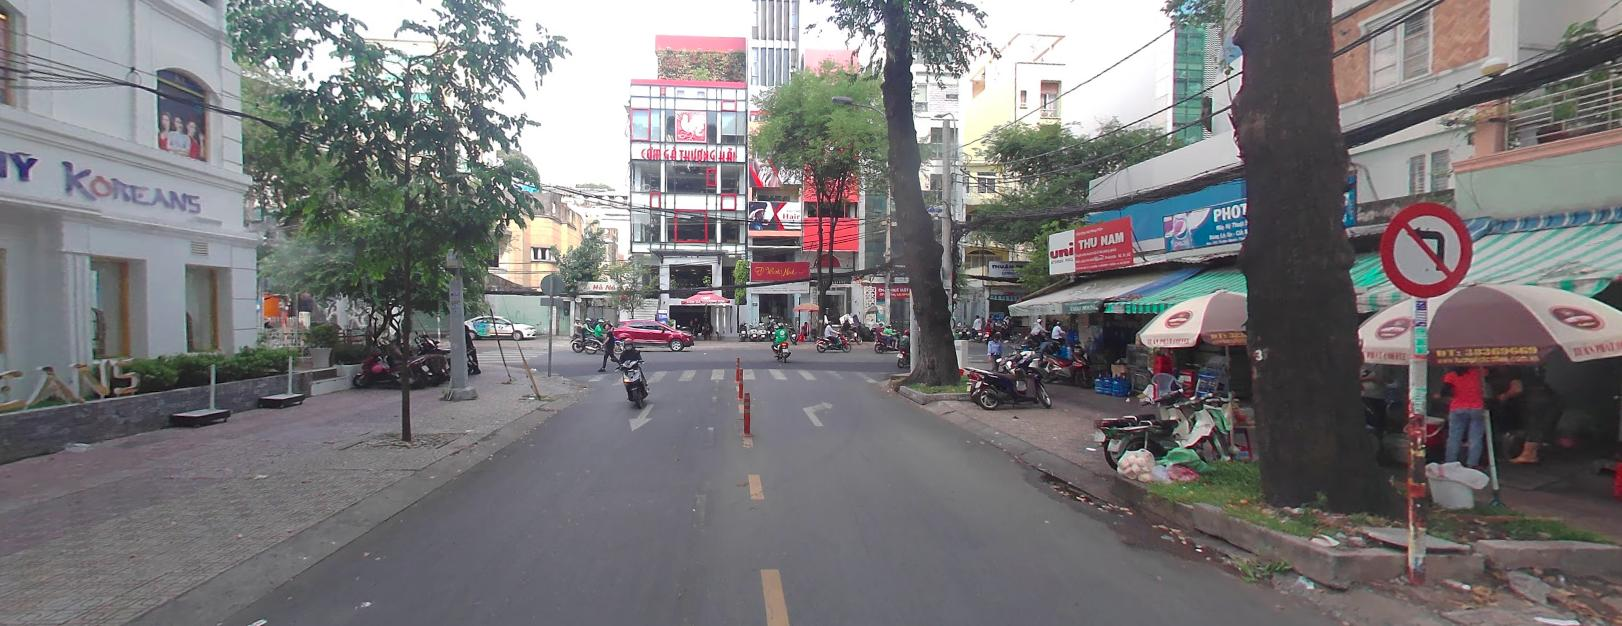Cam re: (1381, 199, 1472, 296)
